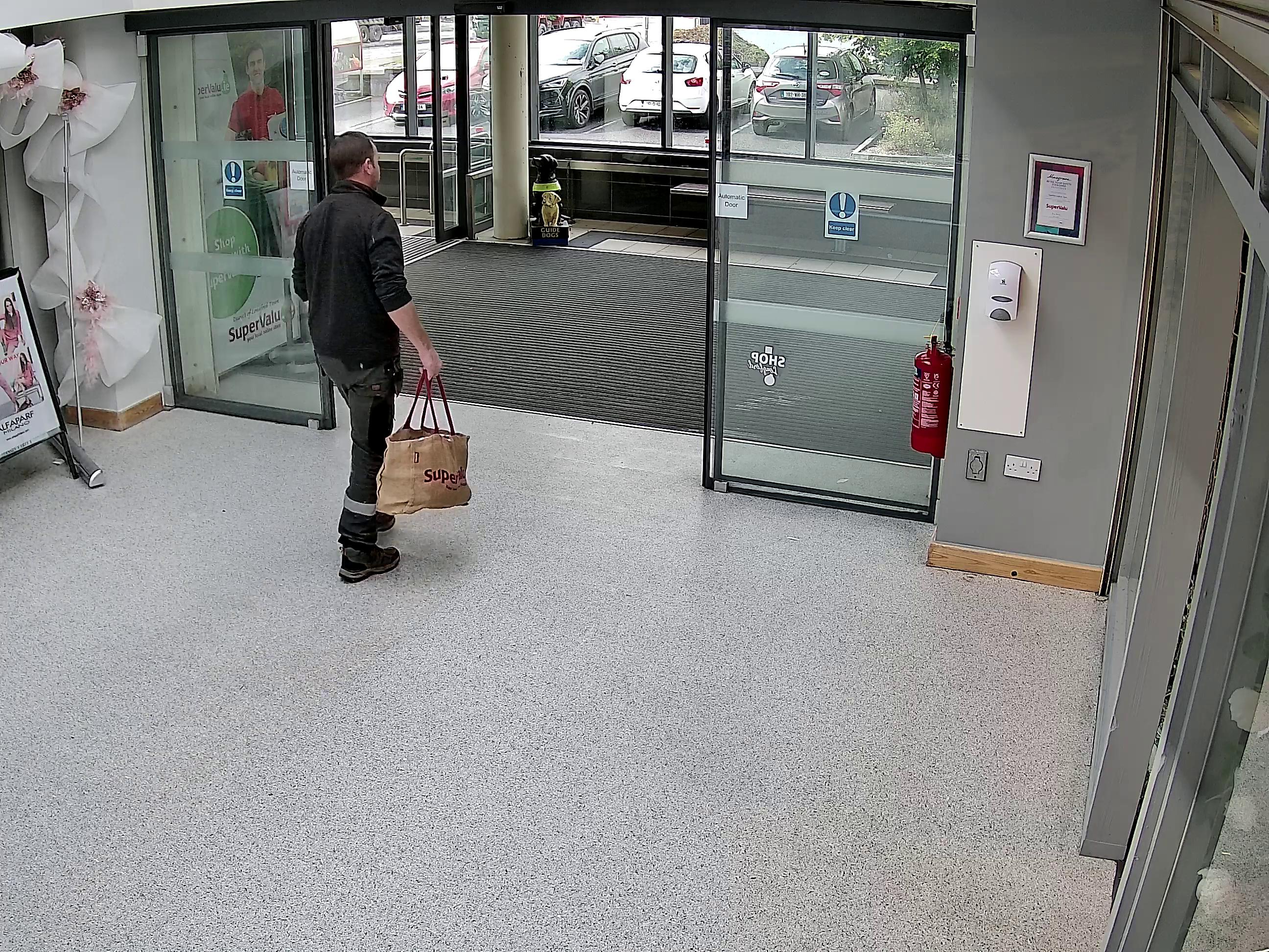filled-shopping-bags: (375, 376, 472, 512)
person: (294, 131, 441, 583)
person-with-filled-shopping-bag-s-: (293, 129, 472, 583)
